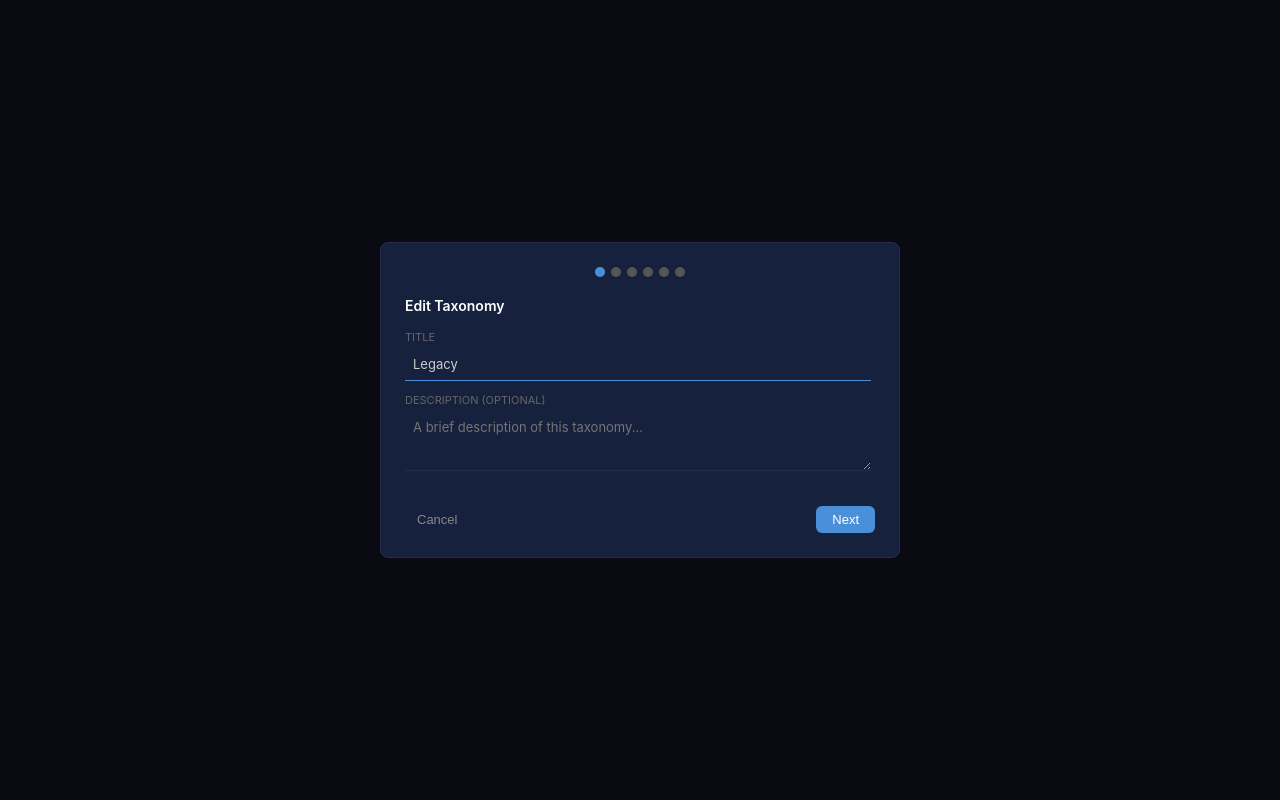
Test: TaxonomyWizard › edit mode with legacy streams/generations converts to classifiers
Navigate to classifiers step
Step 1. Click the button "Next" → (846, 520), box [816,506,875,533]
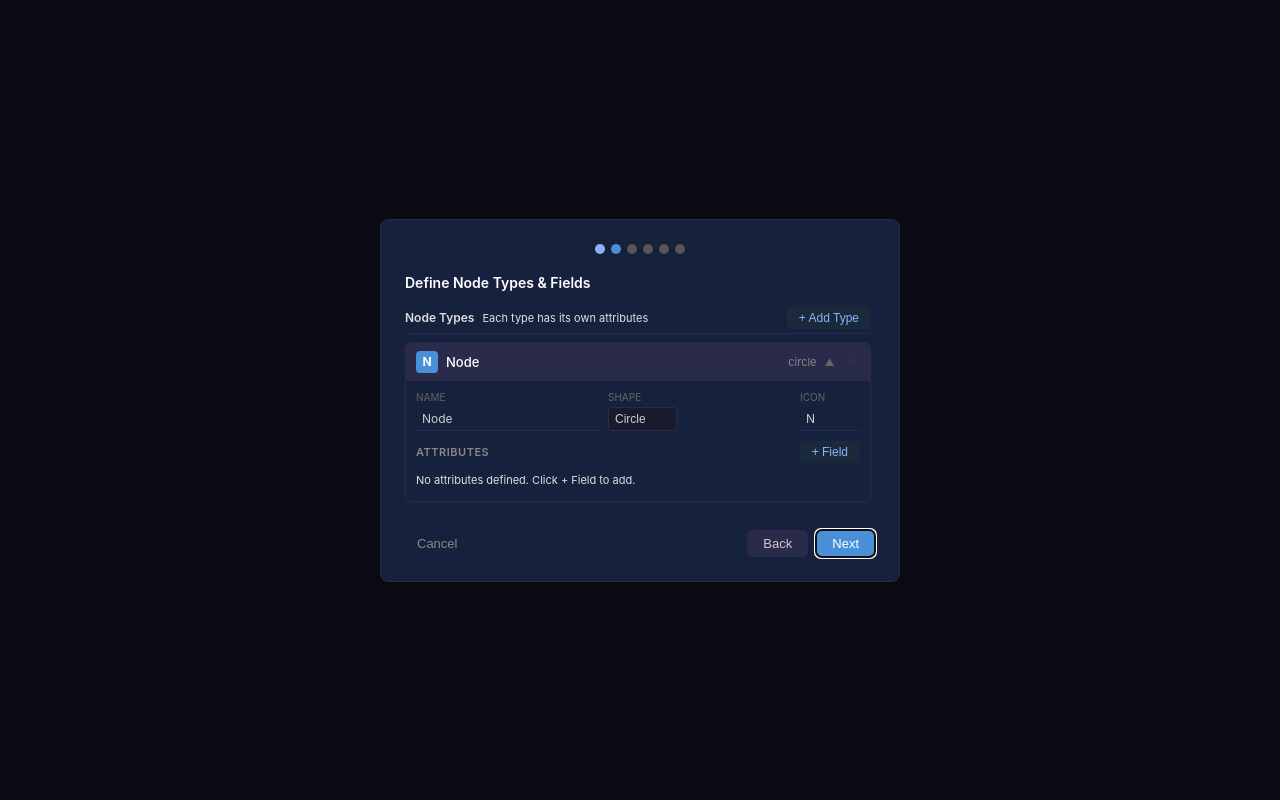
Step 2. Click the button "Next" → (846, 543), box [816,530,875,556]
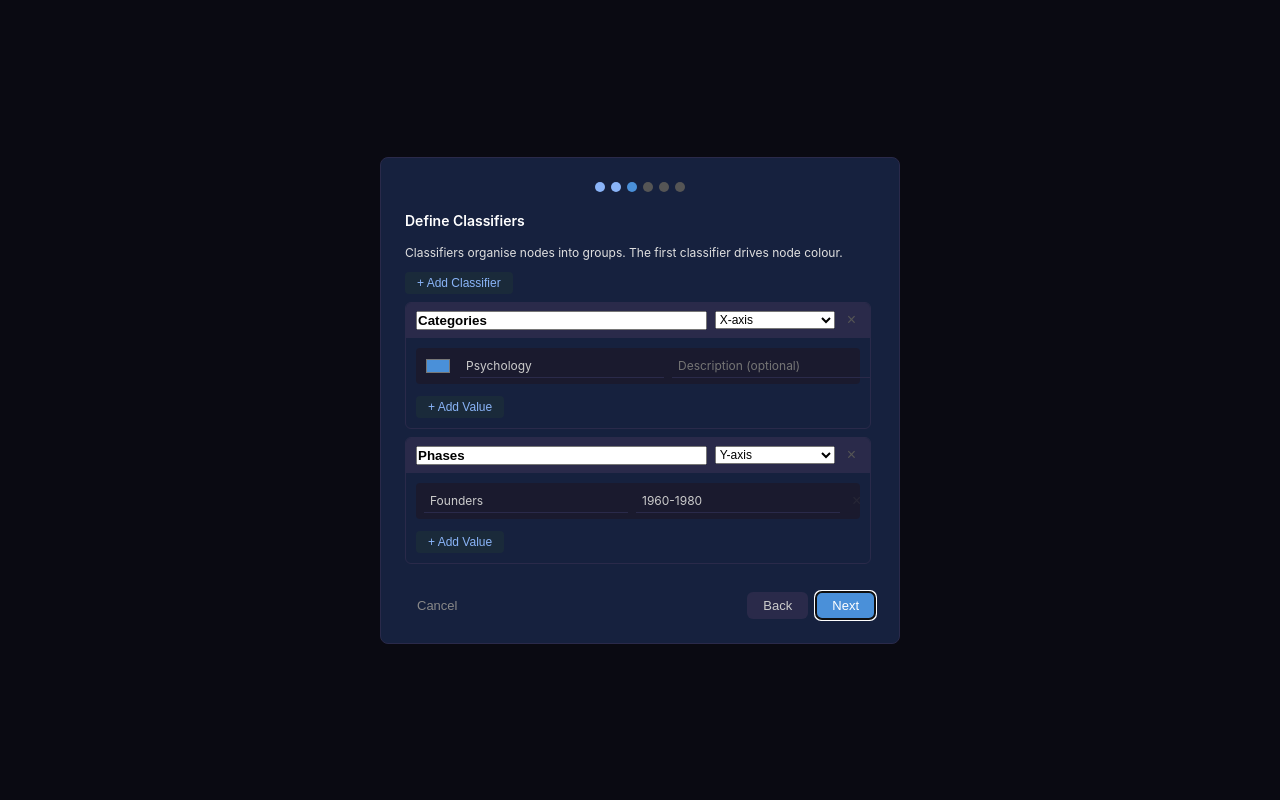
Expected: the text "Define Classifiers" is shown, [405,212,525,228]
Expected: the 2nd field showing "Psychology" is shown, [460,354,664,378]
